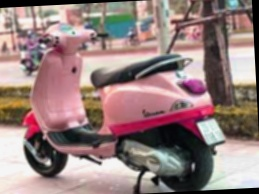Bien-so: (193, 126, 223, 154)
